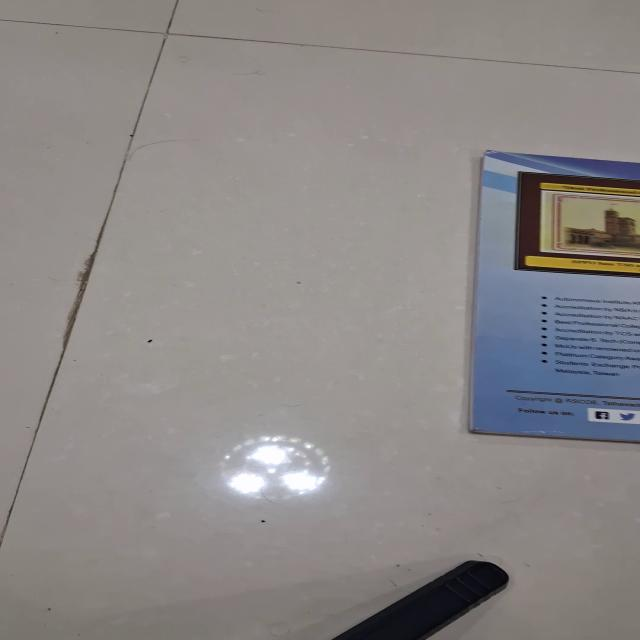paper: (467, 149, 639, 443)
